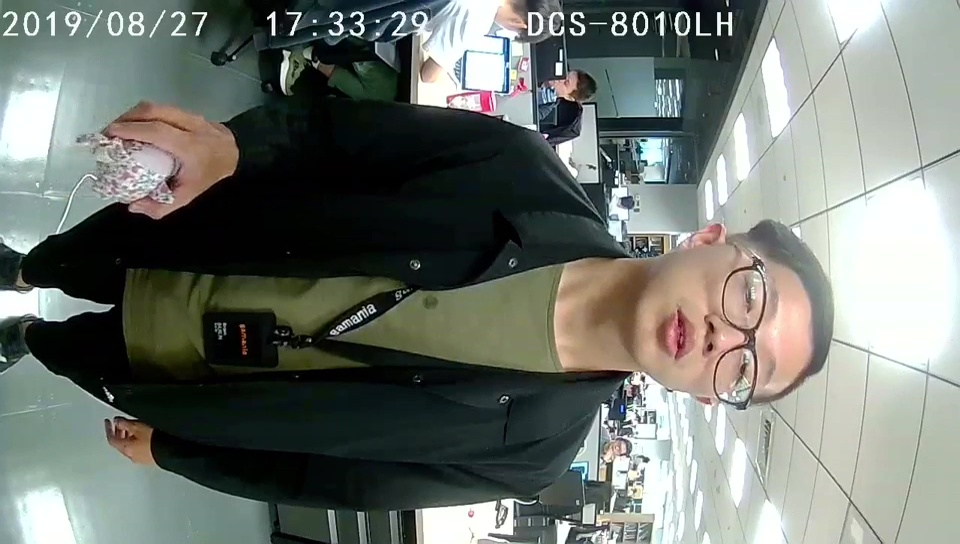pig: (94, 130, 176, 206)
